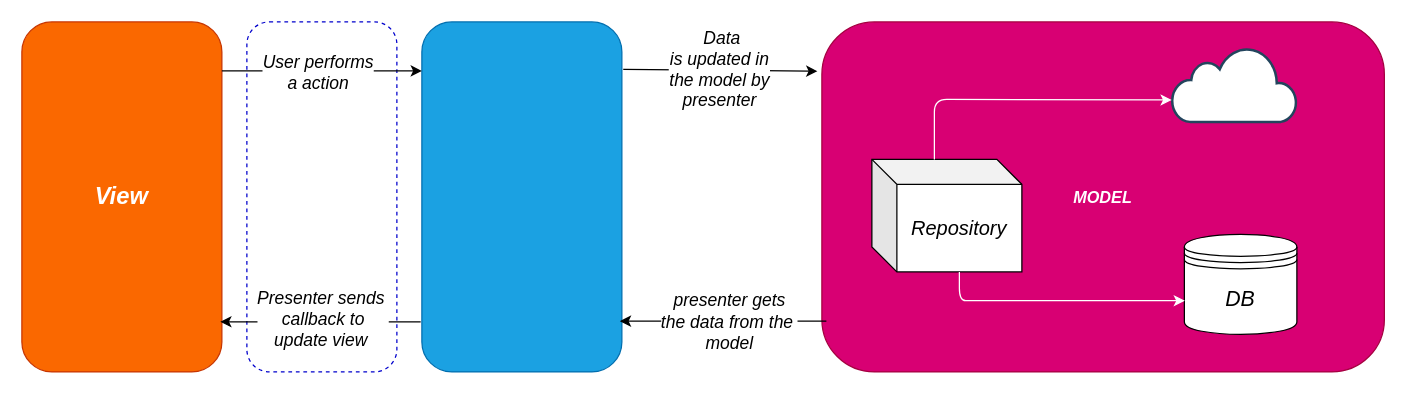
Image size: 1406x394. Some labels were removed from this diagram. The centre of each missing label's shape, as x and y in pixels:
"API" goes at (x=1234, y=83).
"Presenter" goes at (x=521, y=196).
